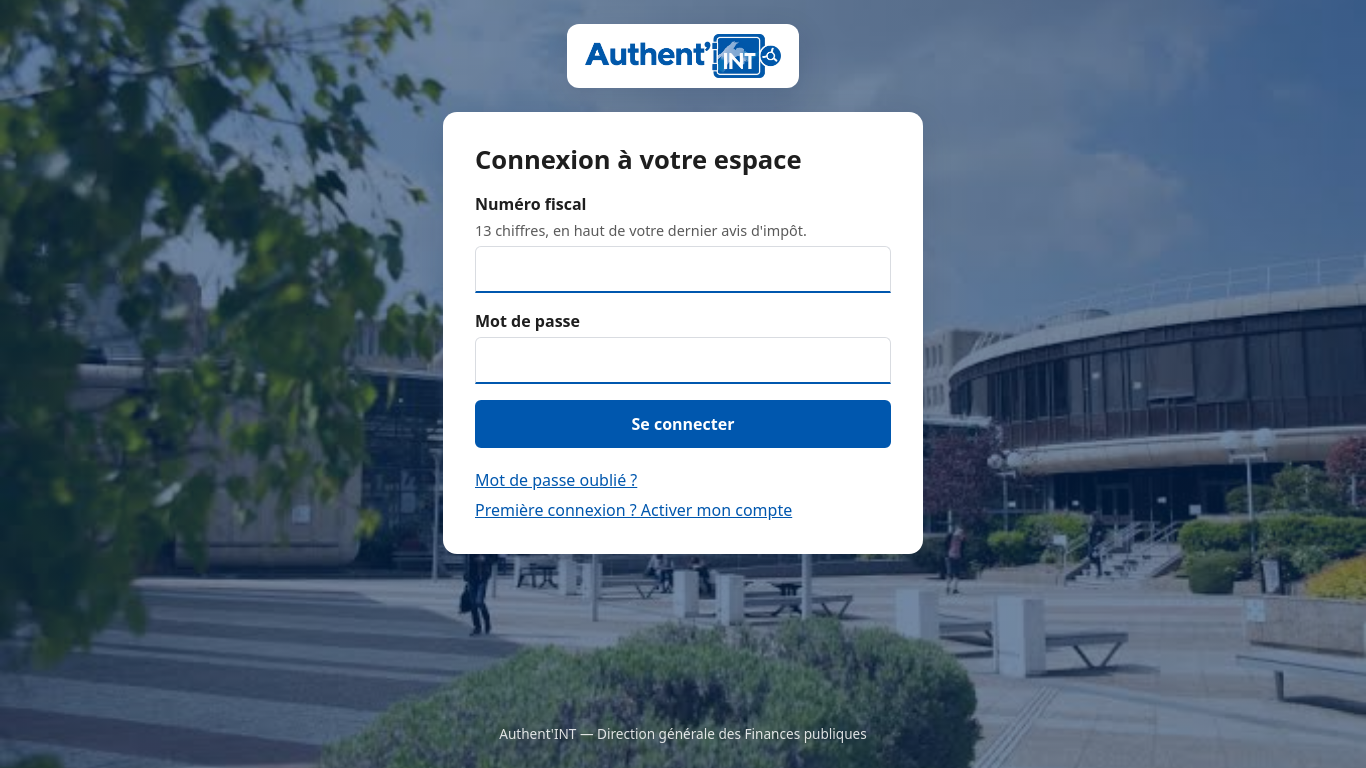
Test case: login › a locked account → its French message, and the password field is emptied
Type "0000000000423" into the field labelled "Numéro fiscal" at coordinates (683, 269), box [475, 246, 891, 293]
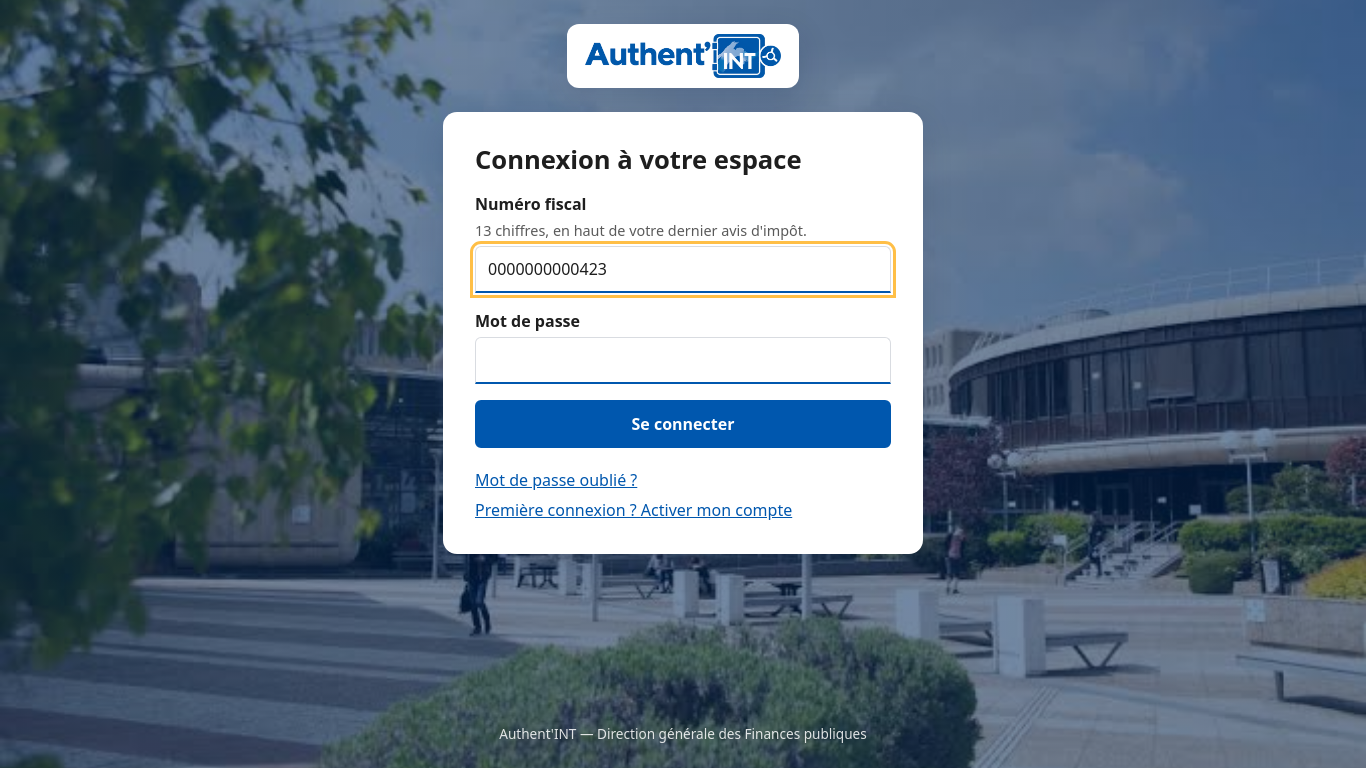
Type "Authentint-dev-1!" into the password field labelled "Mot de passe" at coordinates (683, 360), box [475, 337, 891, 384]
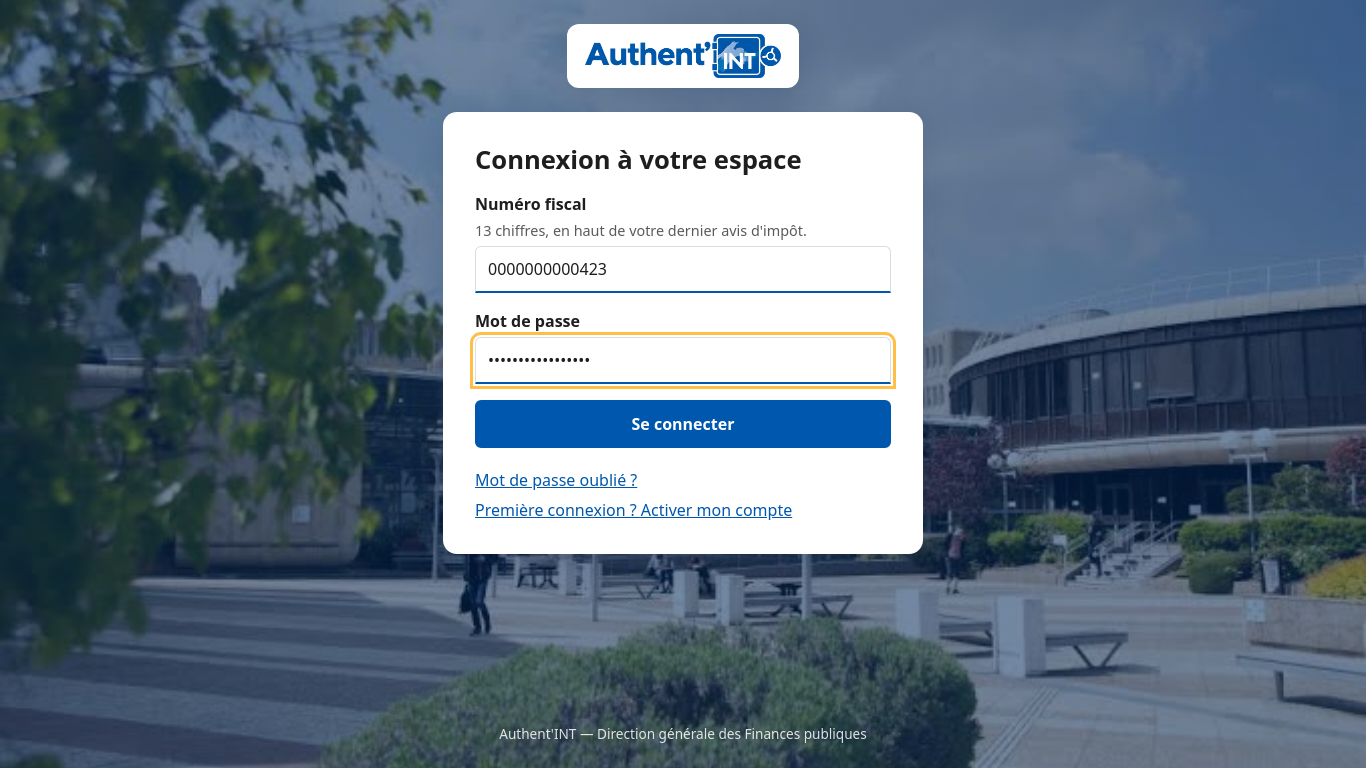
Click the button "Se connecter" at coordinates (683, 424), box [475, 400, 891, 448]
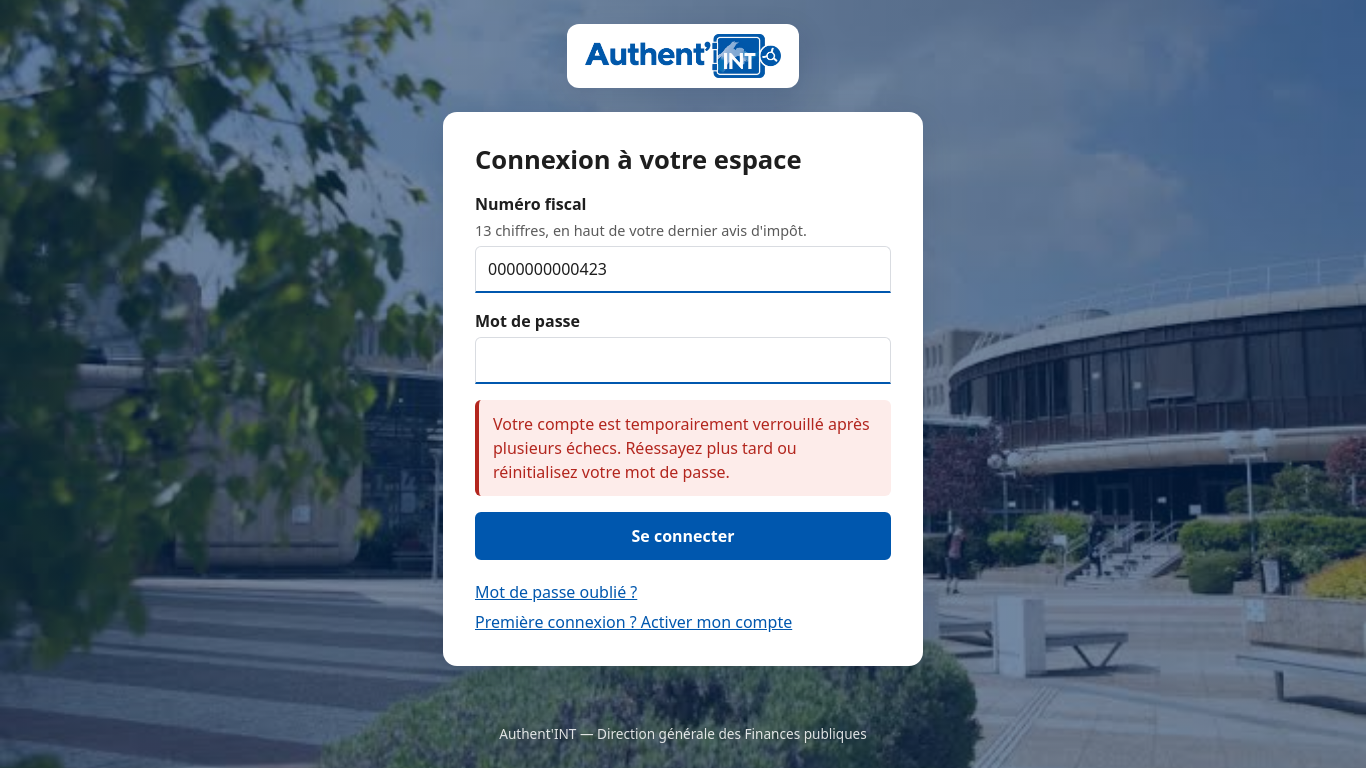
Expected: the message shows "Votre compte est temporairement verrouillé", [493, 413, 870, 483]
Expected: the password field labelled "Mot de passe" is empty, [475, 337, 891, 384]
